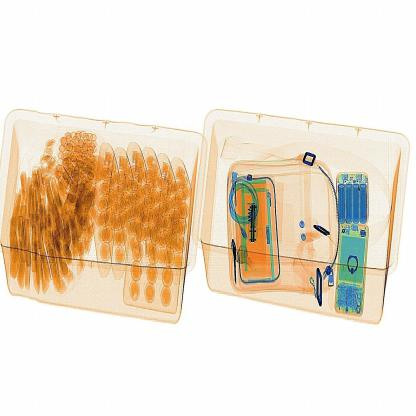scissors: (242, 191, 274, 246)
